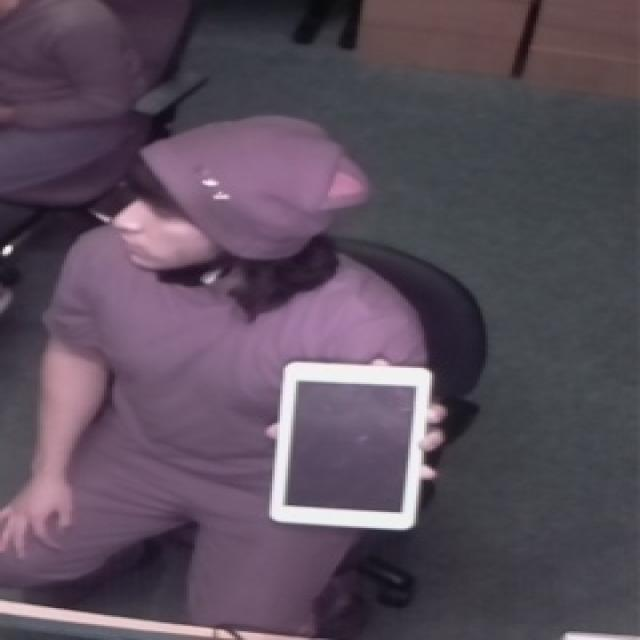phone: (248, 346, 460, 538)
